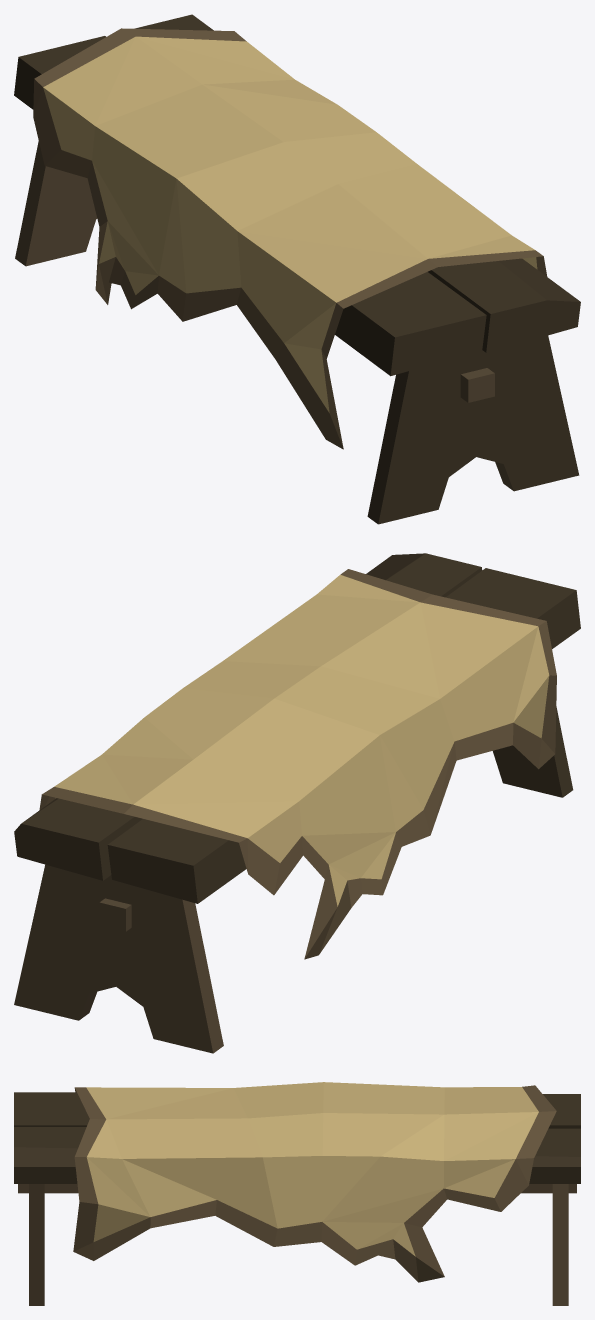
File: EA03_Prop_Town_Bench_01a.glb
The picture shows the model from 3 angles, top to bottom: view 1: azimuth 30°, elevation 25°; view 2: azimuth 150°, elevation 25°; view 3: azimuth 270°, elevation 25°; orthographic projection. The views are drawn at different scales.
Visible parts, largest first — view 1: EA03_Prop_Town_Bench_01a; view 2: EA03_Prop_Town_Bench_01a; view 3: EA03_Prop_Town_Bench_01a.
Part boxes in pixels (x1,y1,x2,y2): EA03_Prop_Town_Bench_01a: (14,14,580,524); EA03_Prop_Town_Bench_01a: (14,553,580,1053); EA03_Prop_Town_Bench_01a: (14,1082,580,1305).
Size of the model in its own units: 0.4962 by 0.4171 by 1.36.
Materials: 1 (1 with a texture image).
